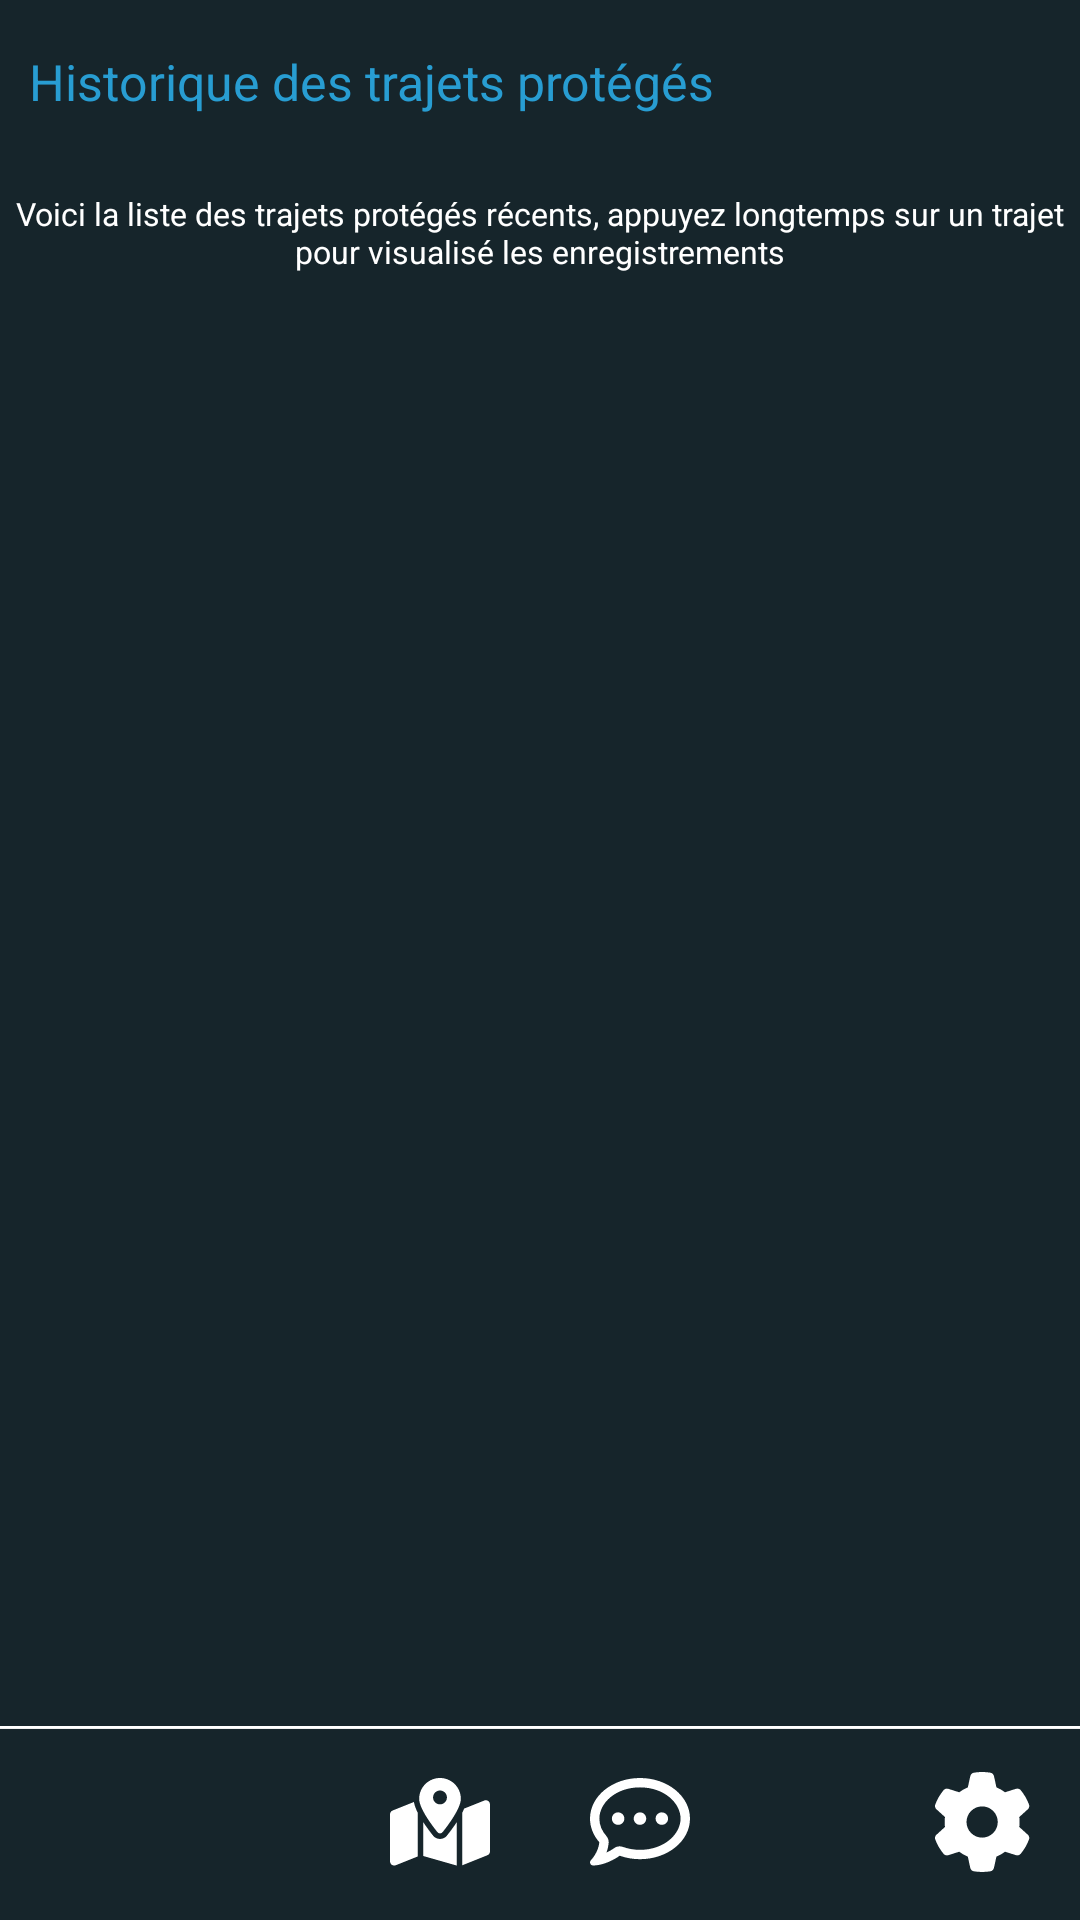

Icon click points for this 1080*1920 phone screenshot, format point (x, y):
map: point (440, 1822)
message: point (640, 1822)
settings: point (982, 1822)
